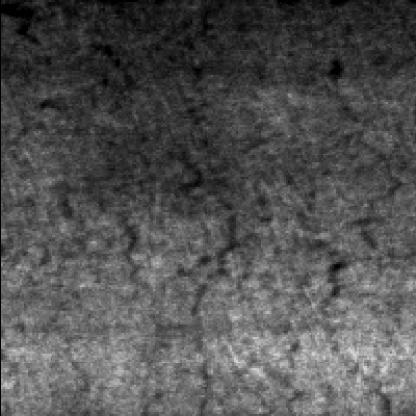crazing: (186, 62, 406, 416), (2, 44, 164, 416)
